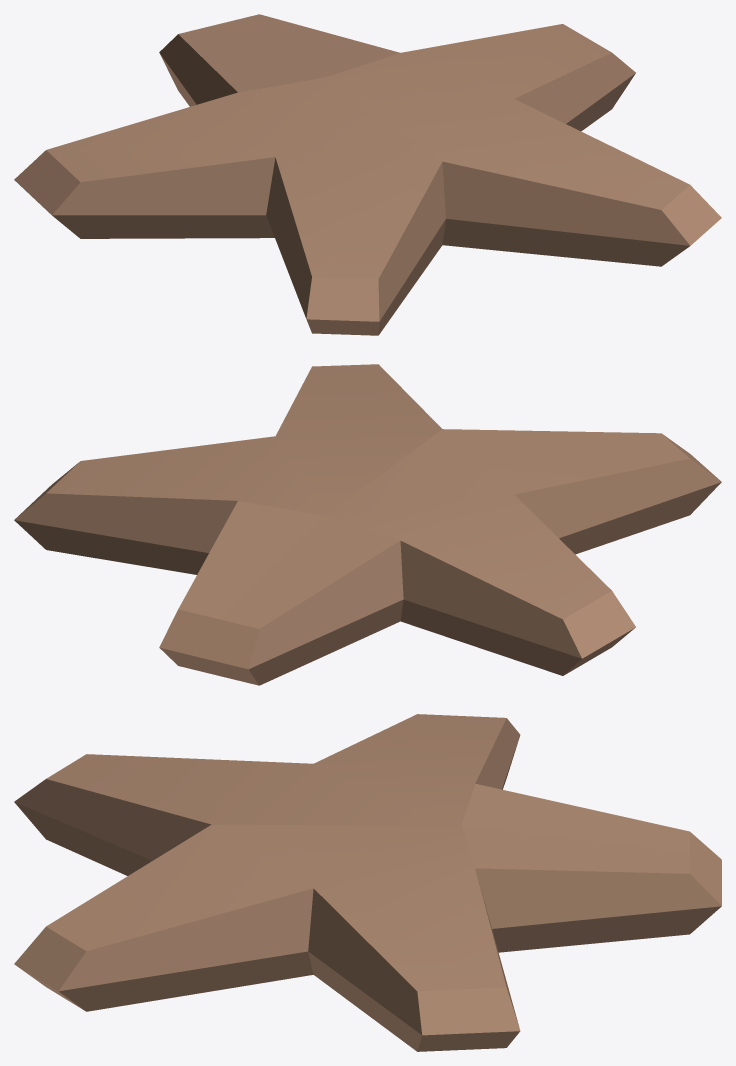
File: CI_Star.fbx
The picture shows the model from 3 angles, top to bottom: view 1: azimuth 30°, elevation 25°; view 2: azimuth 150°, elevation 25°; view 3: azimuth 270°, elevation 25°; orthographic projection. The views are drawn at different scales.
Visible parts, largest first — view 1: CI_Star; view 2: CI_Star; view 3: CI_Star.
Boxes of the visible parts, left/top/right/bottom form: CI_Star: left=14, top=14, right=721, bottom=335; CI_Star: left=14, top=364, right=721, bottom=685; CI_Star: left=14, top=714, right=721, bottom=1051.
Bounding box in the file's own units: 6.87 × 0.9398 × 6.74.
